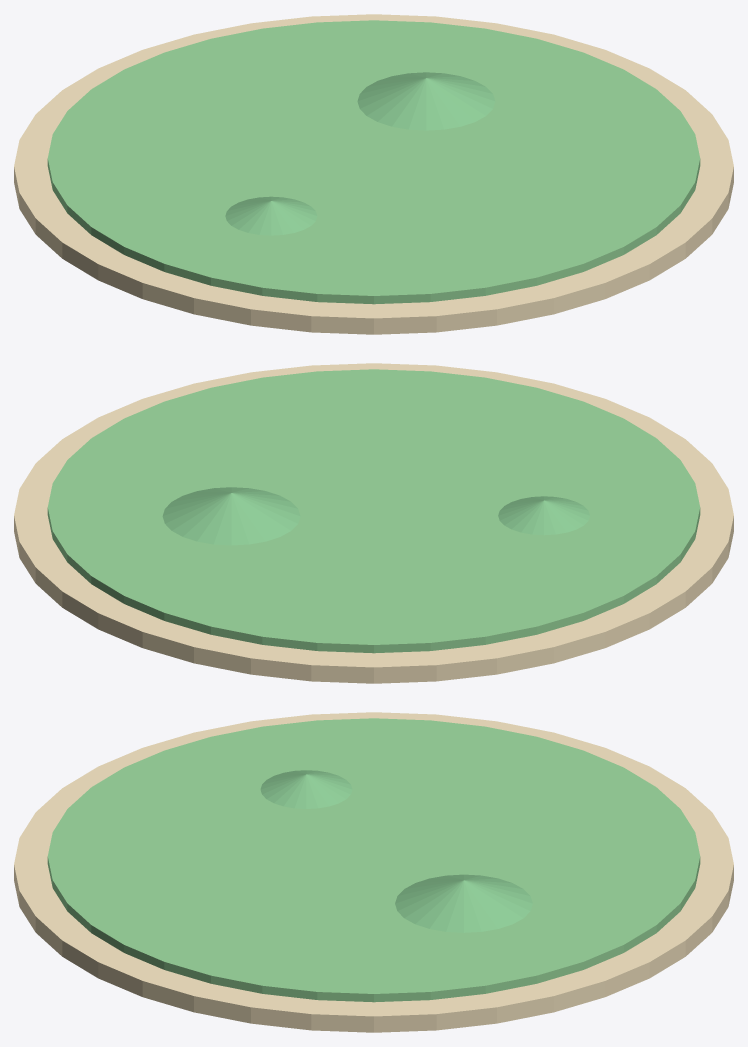
File: island.glb
3 views of the same model, one above another, from view 1: azimuth 30°, elevation 25°; view 2: azimuth 150°, elevation 25°; view 3: azimuth 270°, elevation 25° (orthographic).
Parts seen in each view (by area): view 1: GrassDisc, SandDisc, Hill, Hill2; view 2: GrassDisc, SandDisc, Hill, Hill2; view 3: GrassDisc, SandDisc, Hill, Hill2.
Part boxes in pixels (x1,y1,x2,y2): GrassDisc: (47,20,700,304); SandDisc: (14,14,733,334); Hill: (357,72,495,130); Hill2: (225,196,317,235); GrassDisc: (47,369,700,653); SandDisc: (14,363,733,683); Hill: (162,487,300,545); Hill2: (498,496,589,535); GrassDisc: (47,718,700,1002); SandDisc: (14,712,733,1032); Hill: (395,874,532,932); Hill2: (260,770,352,808).
Bounding box in the file's own units: 64 × 17.3 × 64.
